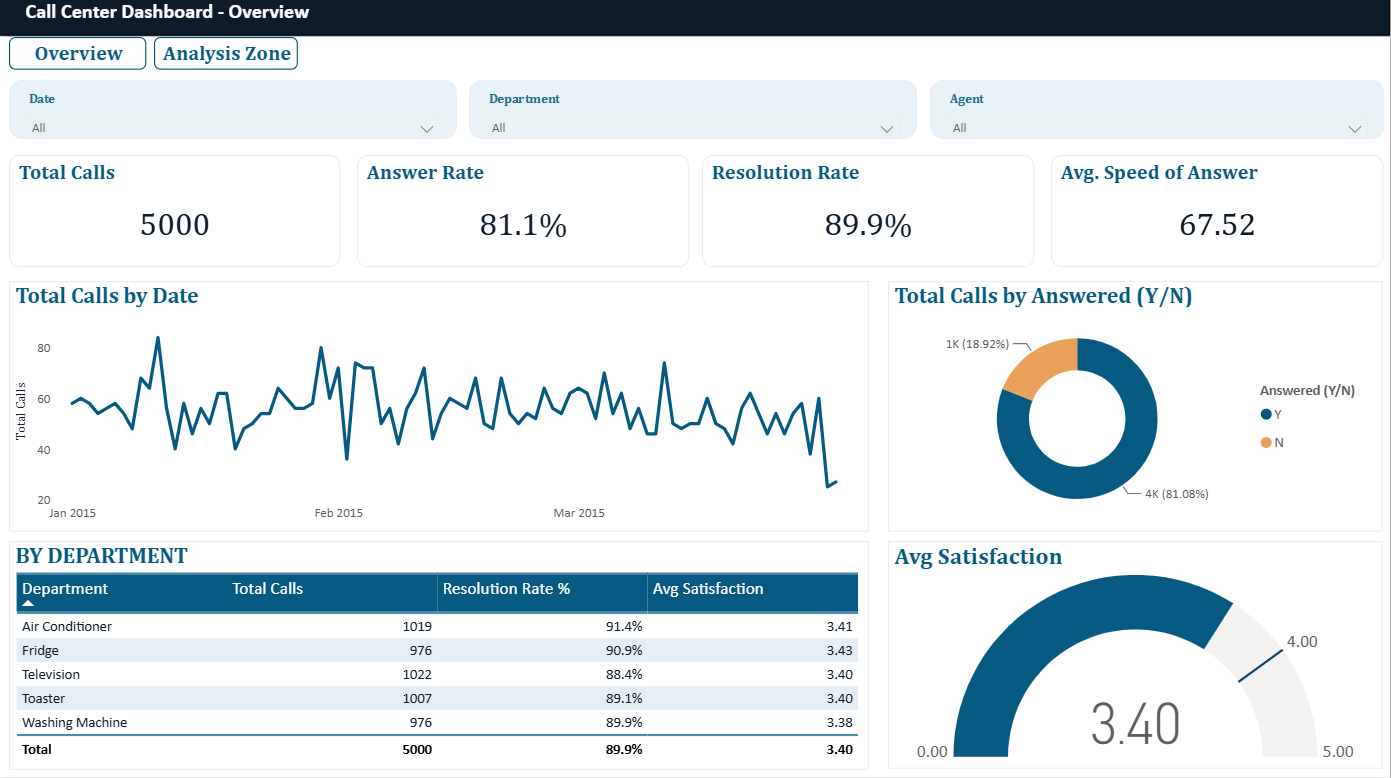

This screenshot's page, from the dashboard's own definition file:
{"tool":"powerbi","page":{"name":"Overview","canvas":[1280,720],"ordinal":0},"visuals":[{"type":"card","title":"Total Calls","fields":{"Values":["Measures_.Total Calls"]},"box":[12.7,149.5,304.4,103.1],"z":0},{"type":"card","title":"Answer Rate","fields":{"Values":["Measures_.Answer Rate"]},"box":[331.7,149.5,305.4,103.1],"z":1000},{"type":"card","title":"Resolution Rate","fields":{"Values":["Measures_.Resolution Rate %"]},"box":[648.8,149.5,305.4,103.1],"z":2000},{"type":"card","title":"Avg. Speed of Answer","fields":{"Values":["Measures_.Avg Speed of Answer"]},"box":[968.8,149.5,305.4,103.1],"z":3000},{"type":"lineChart","fields":{"Category":["Call Center Data.Date"],"Y":["Measures_.Total Calls"]},"box":[12.6,265.5,788.8,229.5],"z":4000},{"type":"donutChart","fields":{"Category":["Call Center Data.Answered (Y/N)"],"Y":["Measures_.Total Calls"]},"box":[819,265.5,454.2,229.5],"z":5000},{"type":"tableEx","title":"BY DEPARTMENT","fields":{"Values":["Call Center Data.Department","Measures_.Total Calls","Measures_.Resolution Rate %","Measures_.Avg Satisfaction"]},"box":[12.7,503.5,789.2,209.6],"z":6000},{"type":"slicer","fields":{"Values":["Call Center Data.Date"]},"box":[12.7,80.7,410.7,54.4],"z":7000},{"type":"slicer","fields":{"Values":["Call Center Data.Department"]},"box":[435.1,80.7,410.7,54.4],"z":8000},{"type":"slicer","fields":{"Values":["Call Center Data.Agent"]},"box":[857.6,80.7,417,54.4],"z":9000},{"type":"textbox","box":[0.9,0,1279.1,39.9],"z":10000},{"type":"gauge","fields":{"Y":["Measures_.Avg Satisfaction"]},"box":[819,504,454,209],"z":11000},{"type":"textbox","box":[0,41.7,1280,32.6],"z":12000},{"type":"actionButton","title":"Overview","box":[12.4,41.7,125.9,30.1],"z":13000},{"type":"actionButton","title":"Analysis Zone","box":[146.3,41.7,132.1,30.1],"z":14000}]}

Visuals, with their boxes in screenshot pixels (x1, y1, x2, y2), scaled from the page's 1280x720 canvas onto the 1391x778 screenshot:
"Total Calls" card: 14/162/345/273
"Answer Rate" card: 360/162/692/273
"Resolution Rate" card: 705/162/1037/273
"Avg. Speed of Answer" card: 1053/162/1385/273
lineChart - Call Center Data.Date x Measures_.Total Calls: 14/287/871/535
donutChart - Call Center Data.Answered (Y/N) x Measures_.Total Calls: 890/287/1384/535
"BY DEPARTMENT" tableEx: 14/544/871/771
slicer - Call Center Data.Date: 14/87/460/146
slicer - Call Center Data.Department: 473/87/919/146
slicer - Call Center Data.Agent: 932/87/1385/146
textbox: 1/0/1390/43
gauge - Measures_.Avg Satisfaction: 890/545/1383/770
textbox: 0/45/1390/80
"Overview" actionButton: 13/45/150/78
"Analysis Zone" actionButton: 159/45/303/78
